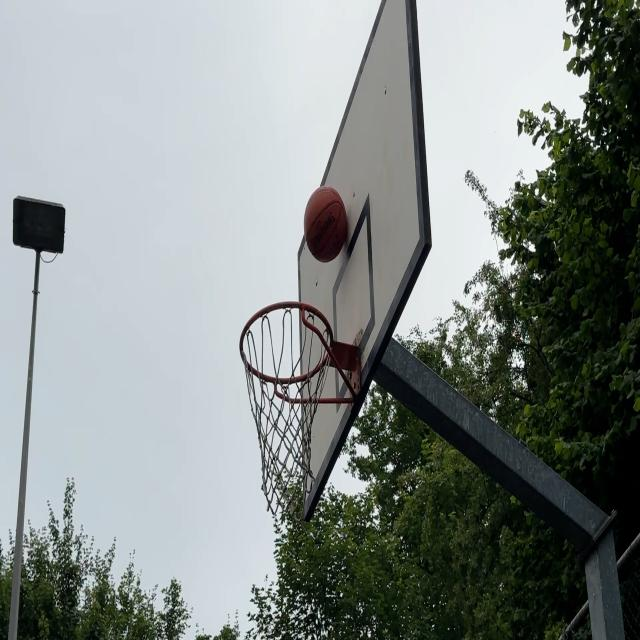rebound_hit: (306, 188, 351, 262)
